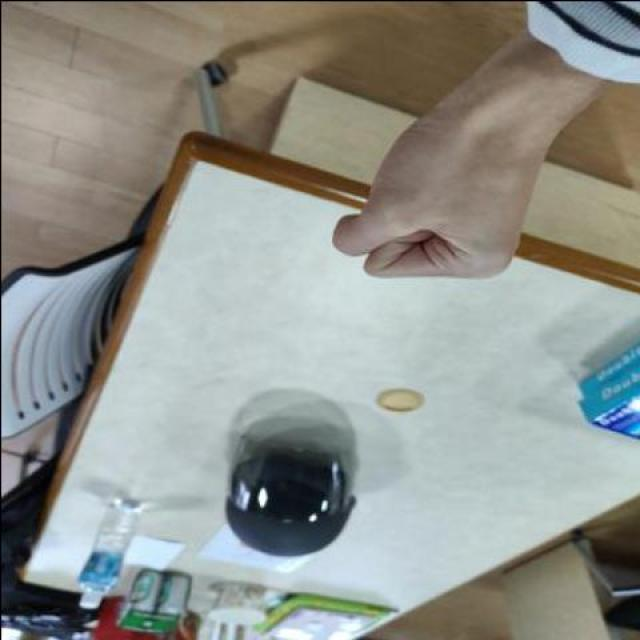Closed Hand: (329, 95, 543, 286)
